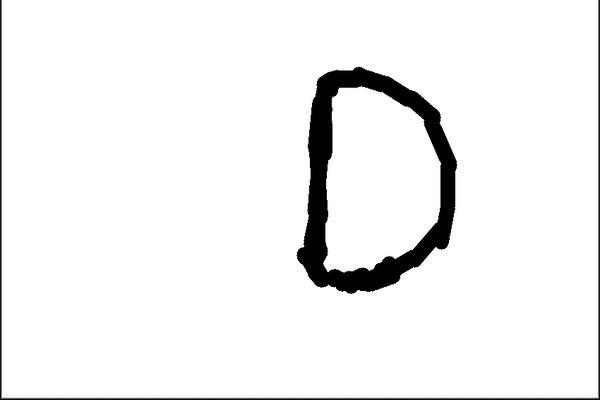D: (289, 59, 467, 300)
